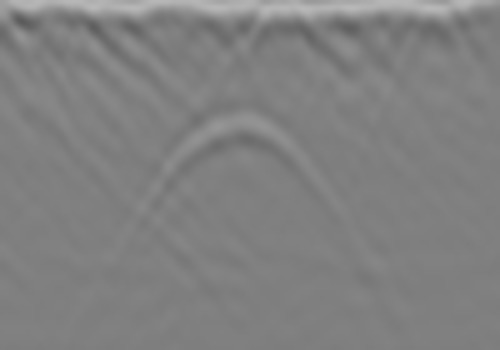hyperbola: (57, 103, 416, 335)
